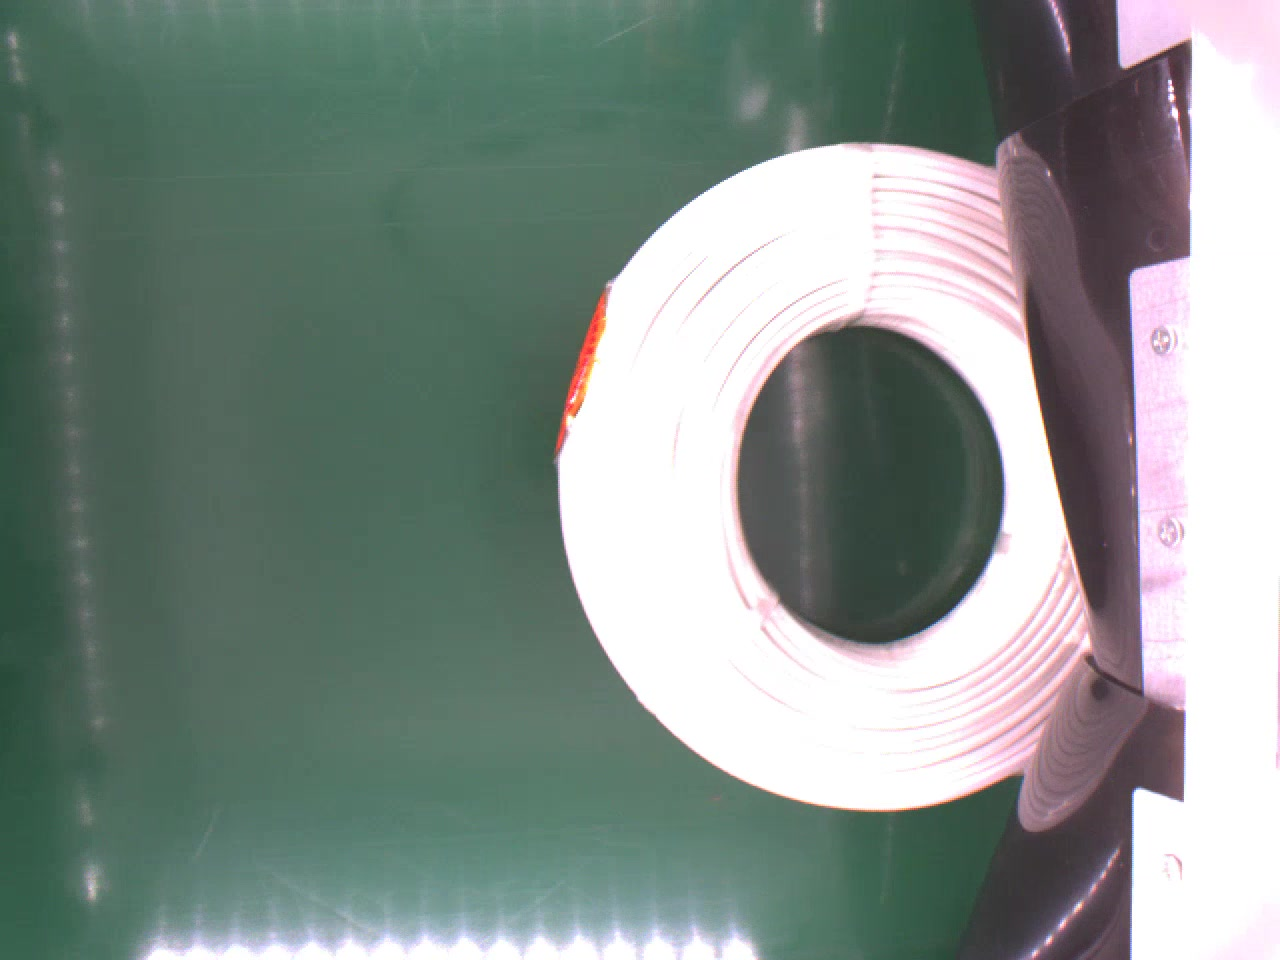white: (558, 143, 1089, 831)
